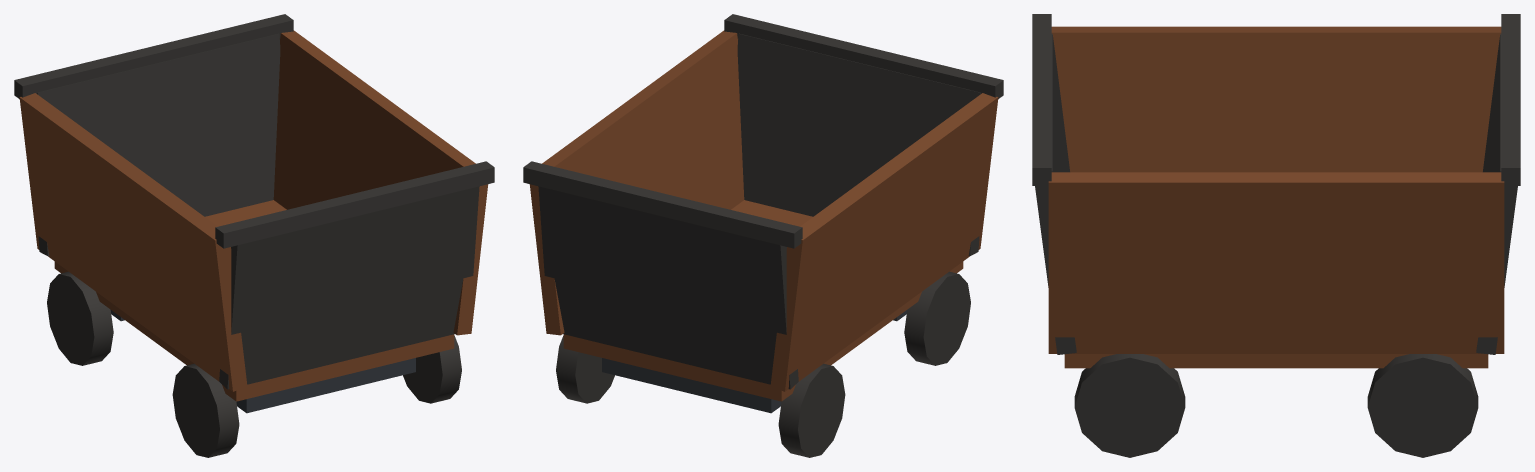
Rendered from mine_cart.glb.
3 views of the same model, side by side, from view 1: azimuth 30°, elevation 25°; view 2: azimuth 150°, elevation 25°; view 3: azimuth 270°, elevation 25° (orthographic). The views are drawn at different scales.
Parts seen in each view (by area): view 1: mine_cart; view 2: mine_cart; view 3: mine_cart.
Boxes of the visible parts, bbox=[...] form: mine_cart: bbox=[14, 14, 494, 457]; mine_cart: bbox=[523, 14, 1003, 457]; mine_cart: bbox=[1032, 14, 1520, 457].
Bounding box in the file's own units: 1.13 × 1.01 × 1.5.
